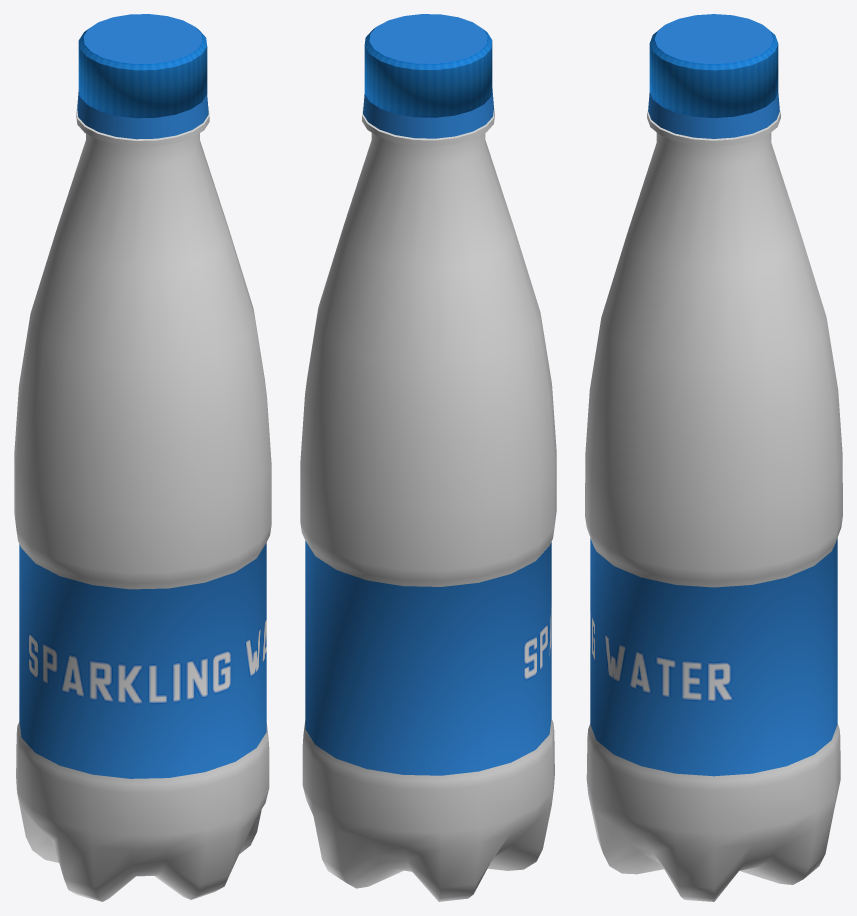
The model's file is Sparkling Water.fbx.
The picture shows the model from 3 angles, left to right: view 1: azimuth 30°, elevation 25°; view 2: azimuth 150°, elevation 25°; view 3: azimuth 270°, elevation 25°; orthographic projection.
Parts seen in each view (by area): view 1: Sparkling Water, Sparkling Water_Cap; view 2: Sparkling Water, Sparkling Water_Cap; view 3: Sparkling Water, Sparkling Water_Cap.
Boxes of the visible parts, x1,y1,x2,y2 form: Sparkling Water: (14,89,271,901); Sparkling Water_Cap: (78,14,207,118); Sparkling Water: (300,89,556,901); Sparkling Water_Cap: (364,14,492,117); Sparkling Water: (585,91,842,901); Sparkling Water_Cap: (649,14,778,117).
Size of the model in its own units: 0.068 by 0.068 by 0.2402.
